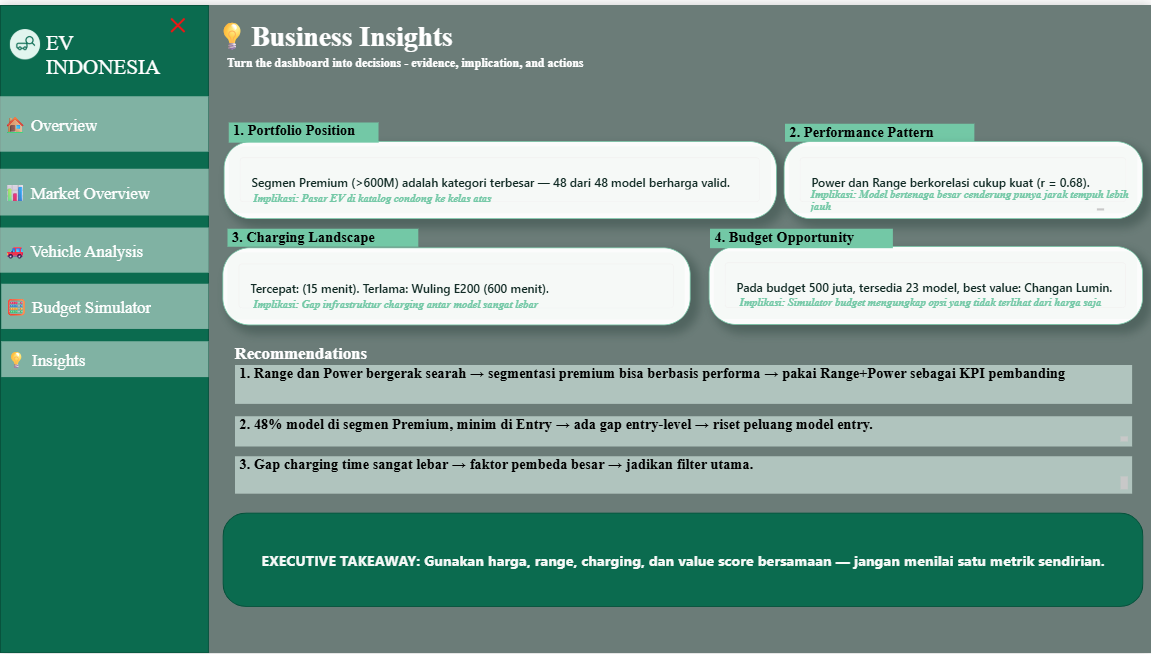

The page's visual inventory and layout, read from the dashboard file:
{"tool":"powerbi","page":{"name":"Business Insight","canvas":[1280,720],"ordinal":4},"visuals":[{"type":"shape","title":"Sidebar Background","box":[0,0,232,720.4],"z":0,"group":"g1"},{"type":"cardVisual","fields":{"Data":["EV_Data.Insight Portfolio"]},"box":[248.4,150.9,614.8,86.4],"z":0},{"type":"textbox","title":"💡Business Insights","box":[232,12.1,954.1,65.8],"z":1000},{"type":"textbox","title":"EV INDONESIA","box":[46.3,29.4,159.3,60.6],"z":1000,"group":"g1"},{"type":"actionButton","title":"Sidebar Close","box":[171,1.7,53.7,39.8],"z":2000,"group":"g1"},{"type":"textbox","title":"Turn the dashboard into decisions - evidence, implication, and actions  ","box":[247.6,57.1,954.1,65.8],"z":2000},{"type":"actionButton","box":[0,101.7,231.7,61.7],"z":3000,"group":"g1"},{"type":"textbox","title":"1. Portfolio Position","box":[254.5,129.9,166.2,22.5],"z":3000},{"type":"textbox","title":"2. Performance Pattern","box":[872.5,132.5,210,20],"z":4000},{"type":"actionButton","box":[0,181.8,232,51.9],"z":4000,"group":"g1"},{"type":"cardVisual","fields":{"Data":["EV_Data.Insight Performance"]},"box":[871.4,150.9,399.3,86.4],"z":5000},{"type":"actionButton","box":[0,247.6,232,50.2],"z":5000,"group":"g1"},{"type":"cardVisual","fields":{"Data":["EV_Data.Insight Charging"]},"box":[247,269,520.1,86.4],"z":6000},{"type":"actionButton","box":[1.7,310,230.3,50.2],"z":6000,"group":"g1"},{"type":"textbox","title":"3. Charging Landscape","box":[253.3,248.3,211.7,20],"z":7000},{"type":"actionButton","box":[1.7,374,230.3,39.8],"z":7000,"group":"g1"},{"type":"image","box":[9.6,21.4,36.3,45.7],"z":8000,"group":"g1"},{"type":"cardVisual","fields":{"Data":["EV_Data.Insight Budget"]},"box":[788.1,268.6,482.7,87.3],"z":8000},{"type":"textbox","title":"4. Budget Opportunity","box":[788.3,248.3,203.3,21.7],"z":9000},{"type":"textbox","title":"Implikasi: Pasar EV di katalog condong ke kelas atas","box":[276.7,208.3,955,25],"z":10000},{"type":"textbox","title":"Implikasi: Model bertenaga besar cenderung punya jarak tempuh lebih jauh","box":[896.1,204.5,374.6,64.5],"z":11000},{"type":"textbox","title":"Implikasi: Gap infrastruktur charging antar model sangat lebar","box":[276.1,326.6,953.7,64.5],"z":12000},{"type":"textbox","title":"Implikasi: Simulator budget mengungkap opsi yang tidak terlihat dari harga saja","box":[817.3,323.8,462.4,64.5],"z":13000},{"type":"textbox","title":"Recommendations","box":[255,376.7,198.3,23.3],"z":14000},{"type":"textbox","title":"1. Range dan Power bergerak searah → segmentasi premium bisa berbasis performa → pakai Range+Power sebagai KPI pembanding","box":[261.7,400,996.7,43.3],"z":15000},{"type":"textbox","title":"2. 48% model di segmen Premium, minim di Entry → ada gap entry-level → riset peluang model entry.","box":[261.7,456.7,996.7,33.3],"z":16000},{"type":"textbox","title":"3. Gap charging time sangat lebar → faktor pembeda besar → jadikan filter utama.","box":[261.7,501.7,996.7,41.7],"z":17000},{"type":"shape","box":[246.7,563.3,1023.3,105],"z":18000},{"type":"group","id":"g1","title":"SIDEBAR","box":[0,0,232,720.4],"z":20000}]}

Visuals, with their boxes in screenshot pixels (x1, y1, x2, y2), scaled from the page's 1280x720 canvas onto the 1151x654 screenshot:
"Sidebar Background" shape: detection(0, 0, 209, 653)
cardVisual - EV_Data.Insight Portfolio: detection(223, 137, 776, 216)
"💡Business Insights" textbox: detection(209, 11, 1067, 71)
"EV INDONESIA" textbox: detection(42, 27, 185, 82)
"Sidebar Close" actionButton: detection(154, 2, 202, 38)
"Turn the dashboard into decisions - evidence, implication, and actions  " textbox: detection(223, 52, 1081, 112)
actionButton: detection(0, 92, 208, 148)
"1. Portfolio Position" textbox: detection(229, 118, 378, 138)
"2. Performance Pattern" textbox: detection(785, 120, 973, 139)
actionButton: detection(0, 165, 209, 212)
cardVisual - EV_Data.Insight Performance: detection(784, 137, 1143, 216)
actionButton: detection(0, 225, 209, 271)
cardVisual - EV_Data.Insight Charging: detection(222, 244, 690, 323)
actionButton: detection(2, 282, 209, 327)
"3. Charging Landscape" textbox: detection(228, 226, 418, 244)
actionButton: detection(2, 340, 209, 376)
image: detection(9, 19, 41, 61)
cardVisual - EV_Data.Insight Budget: detection(709, 244, 1143, 323)
"4. Budget Opportunity" textbox: detection(709, 226, 892, 245)
"Implikasi: Pasar EV di katalog condong ke kelas atas" textbox: detection(249, 189, 1108, 212)
"Implikasi: Model bertenaga besar cenderung punya jarak tempuh lebih jauh" textbox: detection(806, 186, 1143, 244)
"Implikasi: Gap infrastruktur charging antar model sangat lebar" textbox: detection(248, 297, 1106, 355)
"Implikasi: Simulator budget mengungkap opsi yang tidak terlihat dari harga saja" textbox: detection(735, 294, 1150, 353)
"Recommendations" textbox: detection(229, 342, 408, 363)
"1. Range dan Power bergerak searah → segmentasi premium bisa berbasis performa → pakai Range+Power sebagai KPI pembanding" textbox: detection(235, 363, 1132, 403)
"2. 48% model di segmen Premium, minim di Entry → ada gap entry-level → riset peluang model entry." textbox: detection(235, 415, 1132, 445)
"3. Gap charging time sangat lebar → faktor pembeda besar → jadikan filter utama." textbox: detection(235, 456, 1132, 494)
shape: detection(222, 512, 1142, 607)
"SIDEBAR" group: detection(0, 0, 209, 653)
